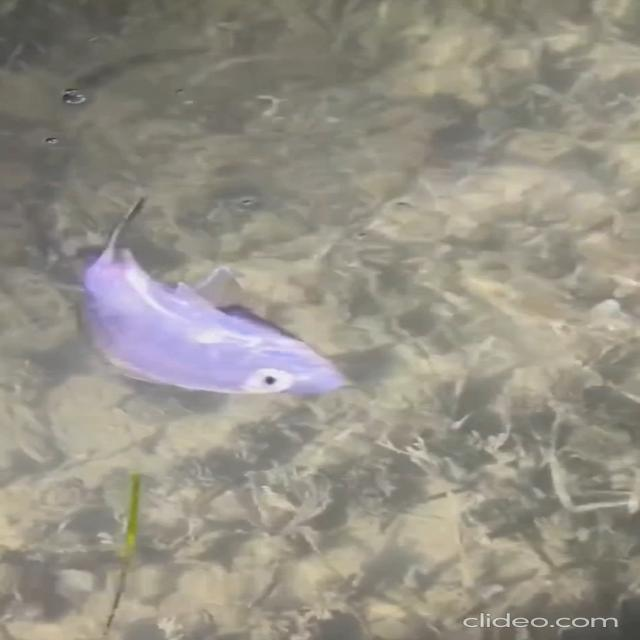fish: (61, 190, 352, 401)
